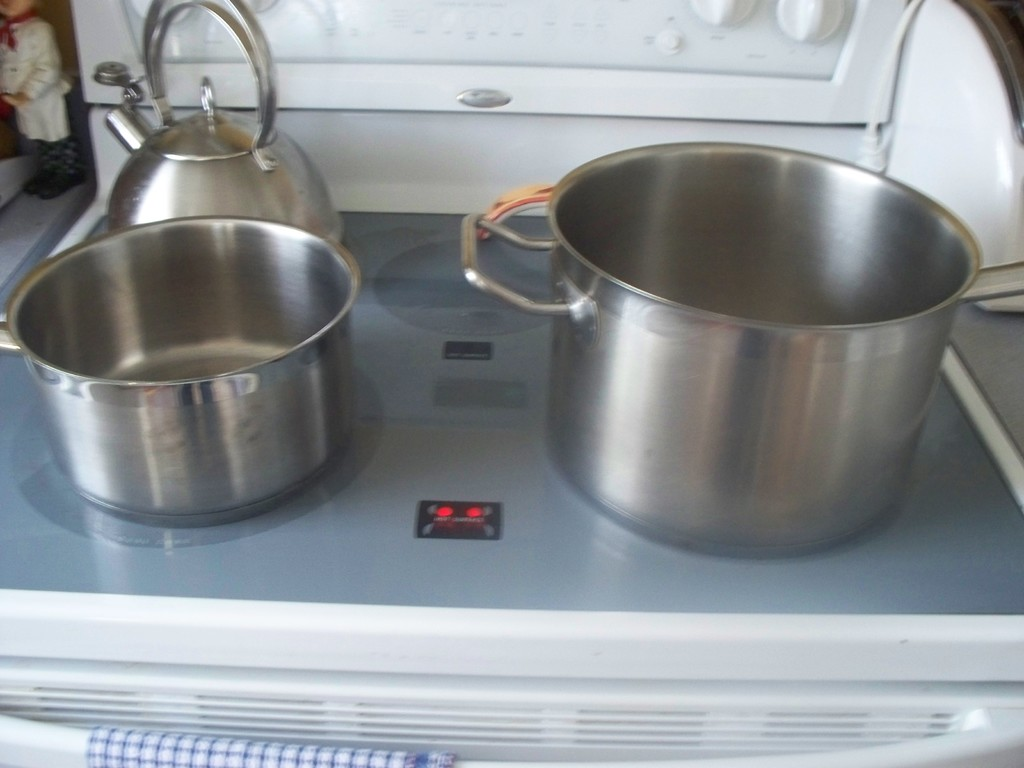Human_hand: (0, 91, 32, 107)
